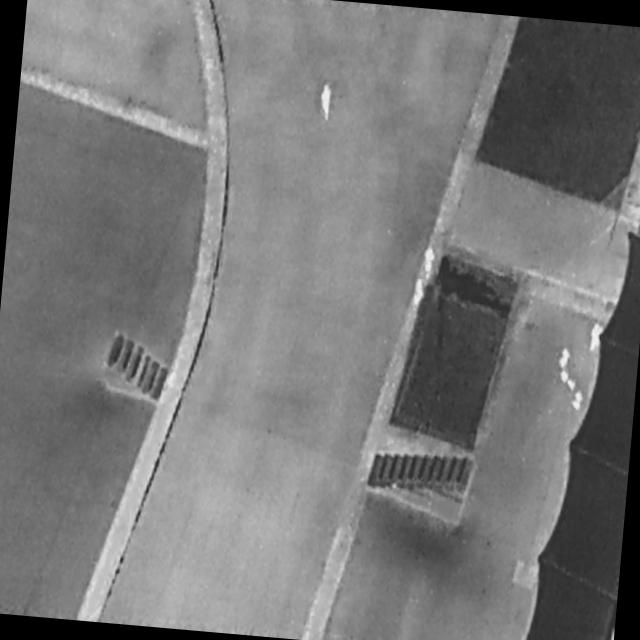person: (316, 81, 336, 121), (422, 245, 438, 279), (412, 274, 427, 309), (589, 321, 605, 353)
